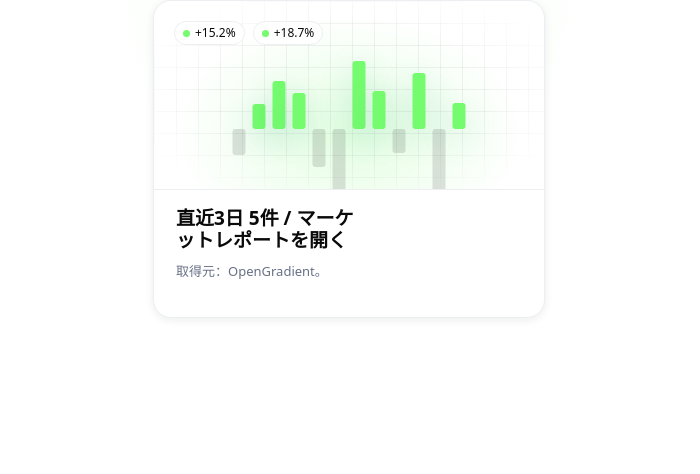
Scenario: IntelligencePanel › renders report controls and living report chrome in Japanese when Japan copy is provided
The width and height of the screenshot is (700, 474).
Click the element "マーケットレポートを開く" at (349, 159), box top-left (153, 0), bottom-right (545, 318)
(page scrolled)
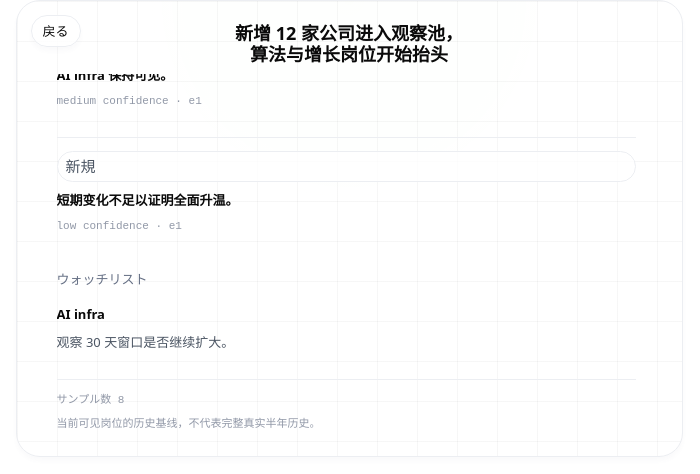
Expected: the button "戻る" is shown, top-left (30, 15), bottom-right (80, 47)
Expected: the heading "ウォッチリスト" is shown, top-left (56, 273), bottom-right (148, 288)
Expected: the text "サンプル数 8" is shown, top-left (56, 394), bottom-right (124, 406)
